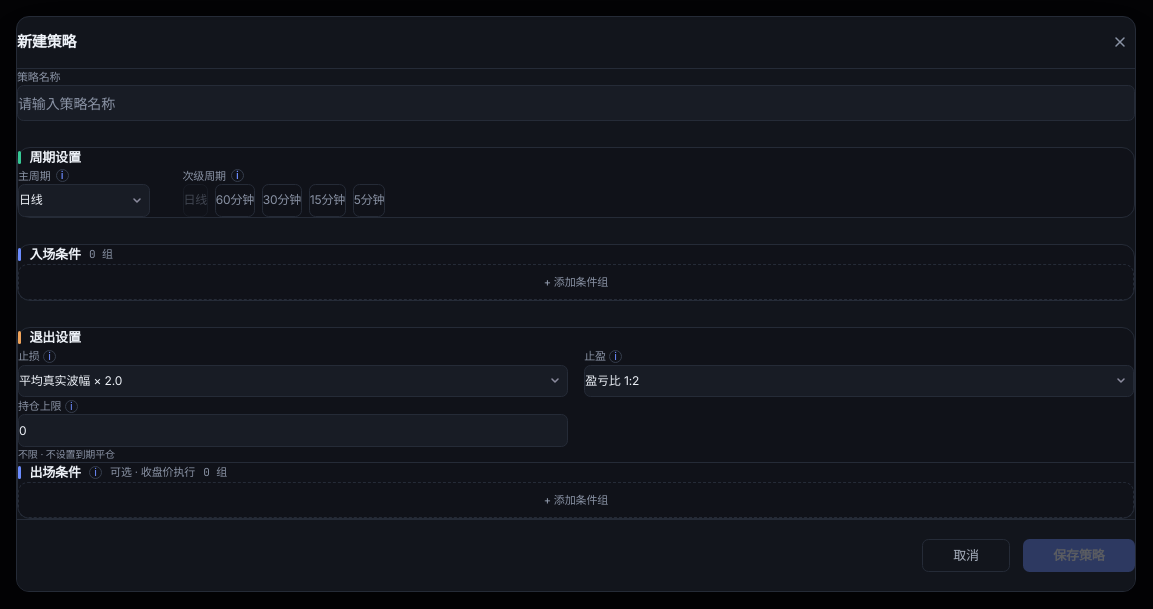
Test: TemplateEditor 周期设置 › 主周期是最细的 5分钟时没有可选的次级周期
Step 1. Select "5分钟" in the dropdown named "主周期" → [84, 200], box [18,184,150,217]
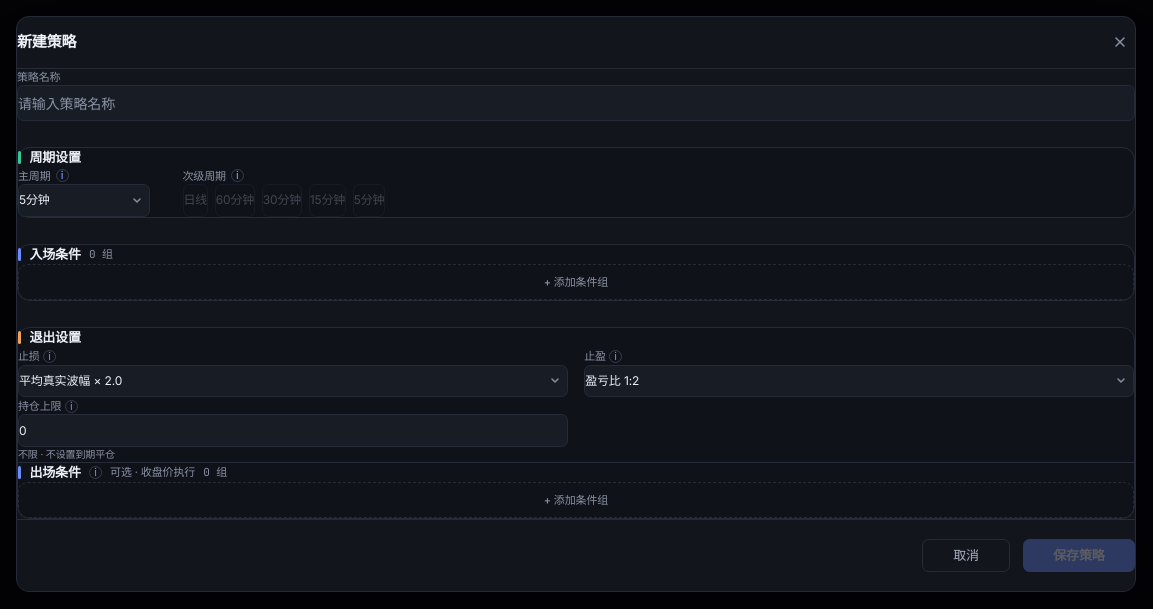
Expected: the button "60分钟" is disabled, [215,184,255,217]
Expected: the button "30分钟" is disabled, [262,184,302,217]
Expected: the button "15分钟" is disabled, [309,184,346,217]
